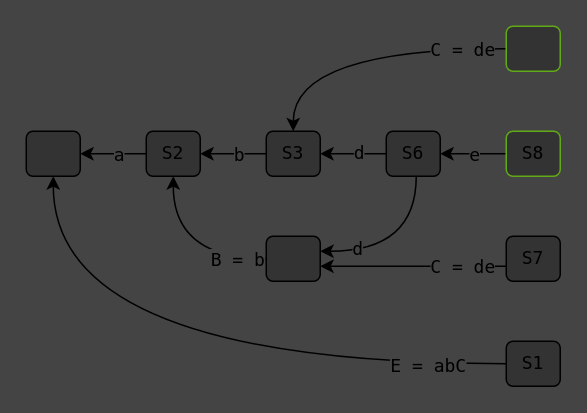
This 587x413 diagram has some shape labels left out. Each missing label, with the centre of its shape:
"S0" belongs at [52,153].
"S4" belongs at [292,258].
"S5" belongs at [532,48].
